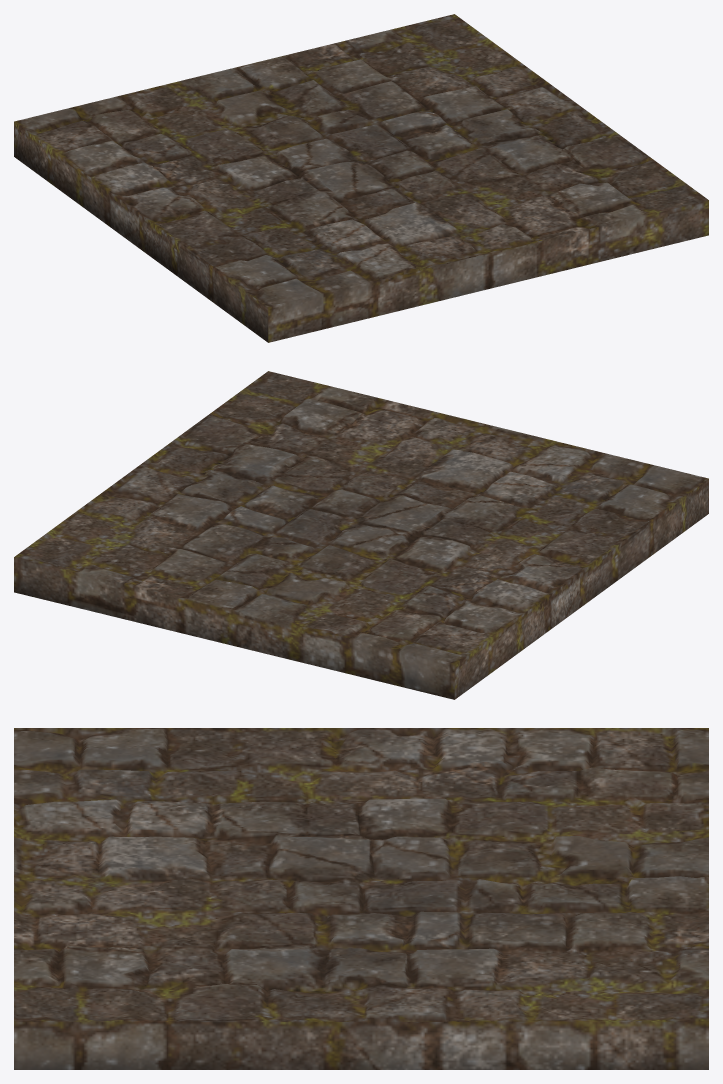
Rendered from SM_Modular_Floor_01a.gltf.
3 views of the same model, one above another, from view 1: azimuth 30°, elevation 25°; view 2: azimuth 150°, elevation 25°; view 3: azimuth 270°, elevation 25° (orthographic). The views are drawn at different scales.
Visible parts, largest first — view 1: SM_Modular_Floor_01a; view 2: SM_Modular_Floor_01a; view 3: SM_Modular_Floor_01a.
Boxes of the visible parts, box(x1,y1,x2,y2) form: SM_Modular_Floor_01a: box(14, 14, 708, 342); SM_Modular_Floor_01a: box(14, 371, 708, 699); SM_Modular_Floor_01a: box(14, 728, 708, 1069).
Bounding box in the file's own units: 7 × 0.5568 × 7.
1 material, 1 textured.
